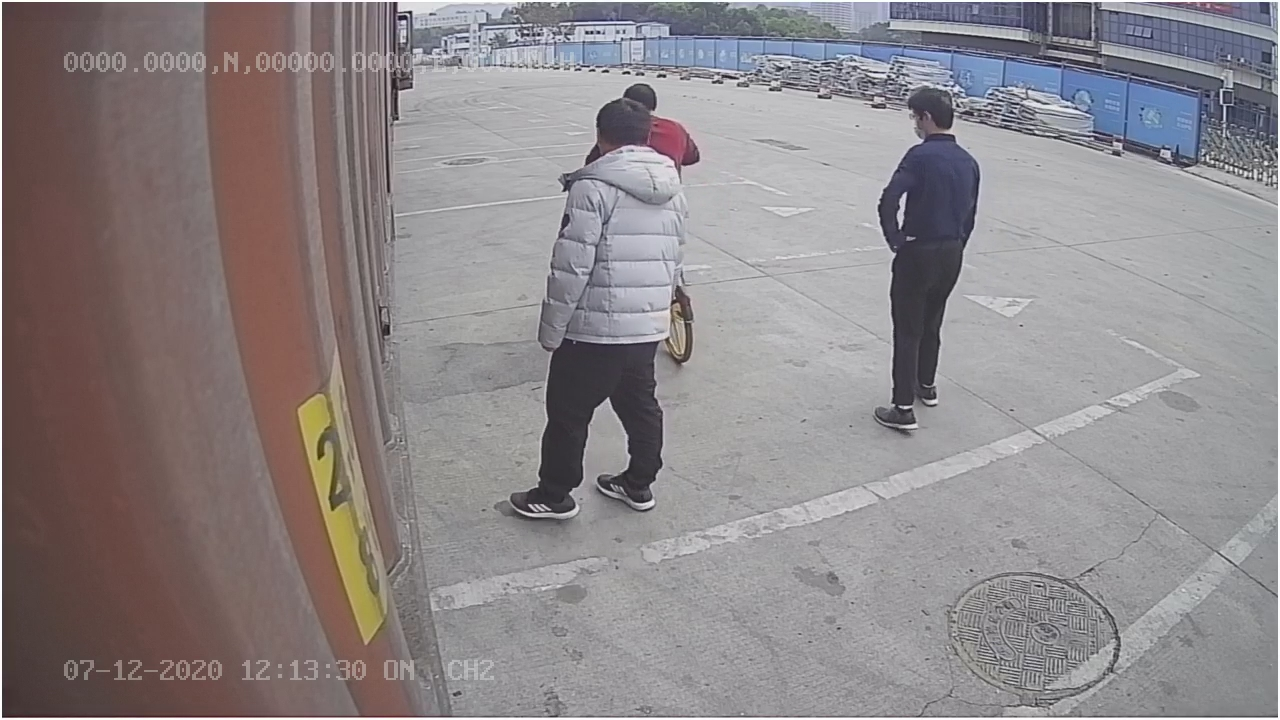person: (874, 78, 981, 432)
